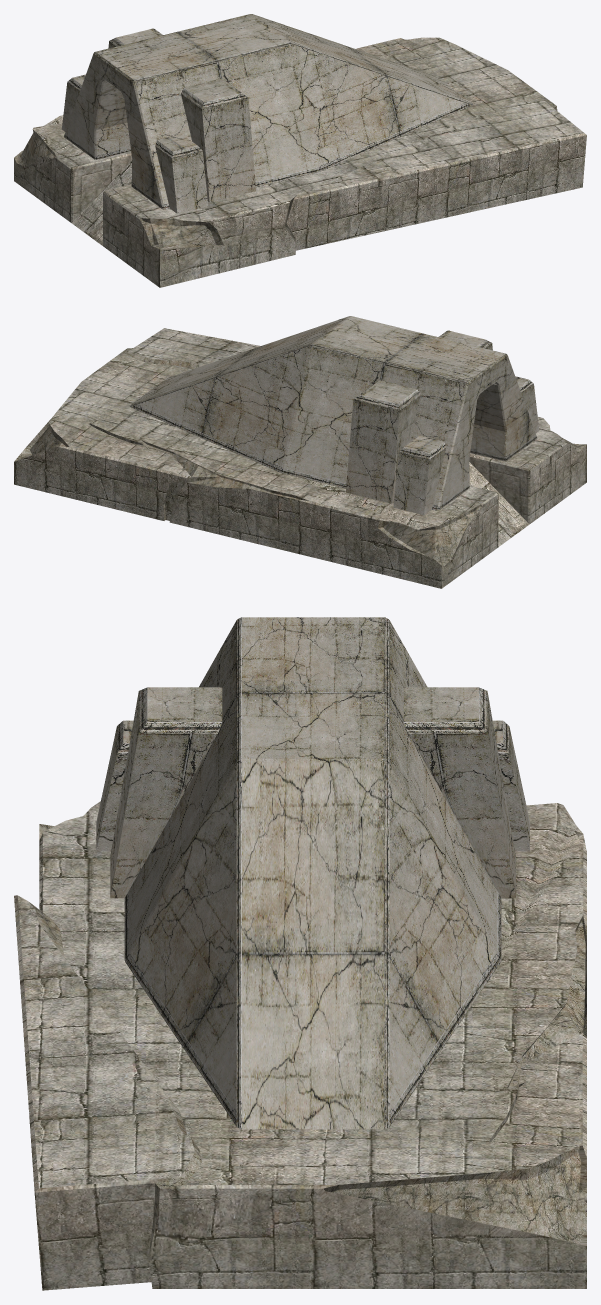
The model's file is thm_yavn_jedi_enclave_light_r0_mesh_r0_l0.fbx.
3 views of the same model, one above another, from view 1: azimuth 30°, elevation 25°; view 2: azimuth 150°, elevation 25°; view 3: azimuth 270°, elevation 25° (orthographic). The views are drawn at different scales.
Visible parts, largest first — view 1: mesh_node; view 2: mesh_node; view 3: mesh_node.
Boxes of the visible parts, x1,y1,x2,y2 form: mesh_node: (14, 14, 586, 287); mesh_node: (14, 316, 586, 588); mesh_node: (14, 617, 586, 1290).
Size of the model in its own units: 16.39 by 6.03 by 10.08.
